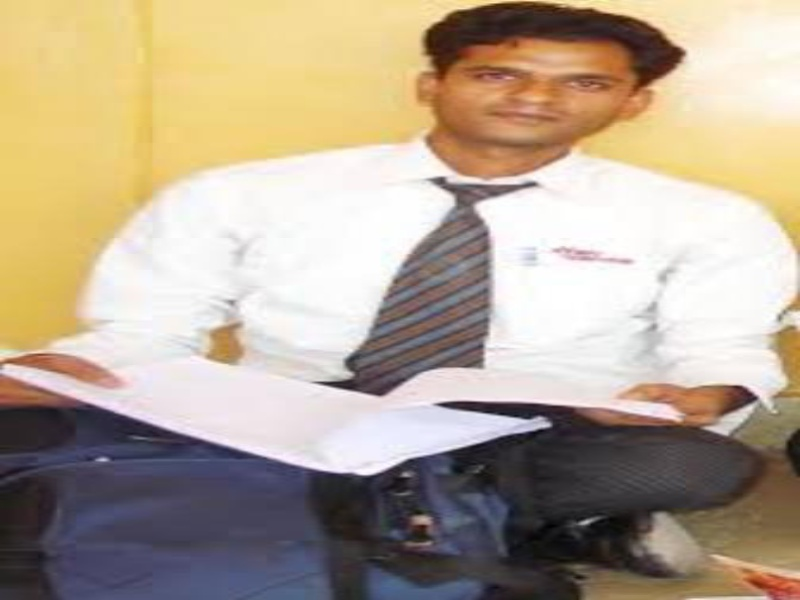TsisyArotava: (396, 1, 696, 201)
